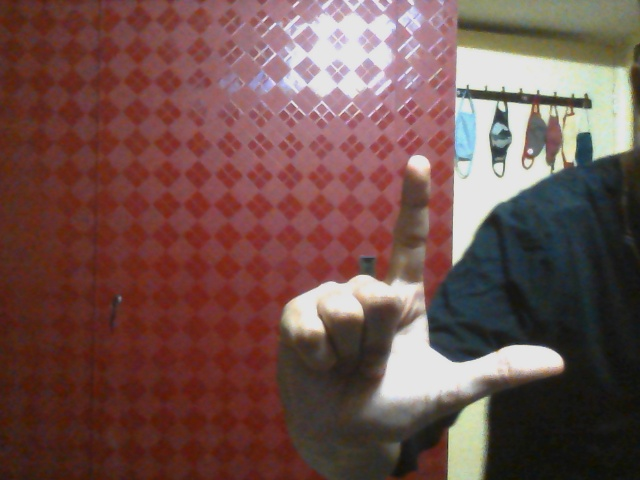L: (281, 153, 567, 430)
